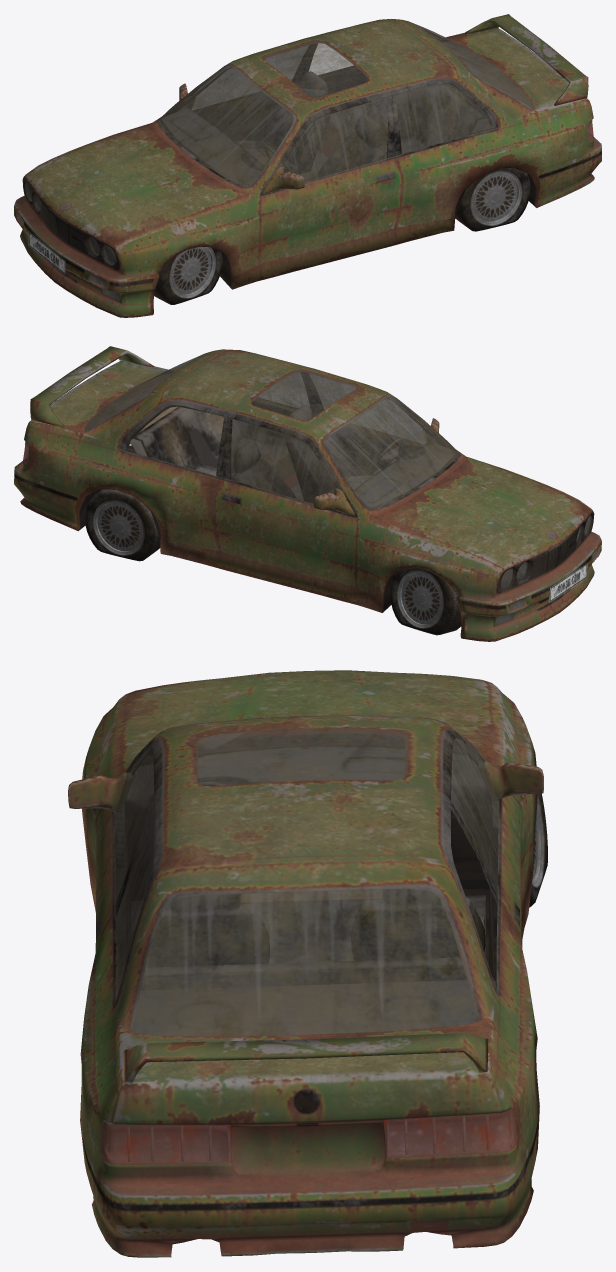
File: bmw_e30.gltf
3 renders of one model, top to bottom at view 1: azimuth 30°, elevation 25°; view 2: azimuth 150°, elevation 25°; view 3: azimuth 270°, elevation 25°, orthographic. The views are drawn at different scales.
Visible parts, largest first — view 1: Object_3, Object_2; view 2: Object_3, Object_2; view 3: Object_3, Object_2.
Boxes of the visible parts, x1,y1,x2,y2 form: Object_3: (14,19,601,316); Object_2: (14,14,601,317); Object_3: (14,349,600,641); Object_2: (14,346,601,641); Object_3: (68,670,543,1256); Object_2: (68,728,547,1257).
Size of the model in its own units: 4326 by 1295 by 1760.
1 material, 1 textured.
